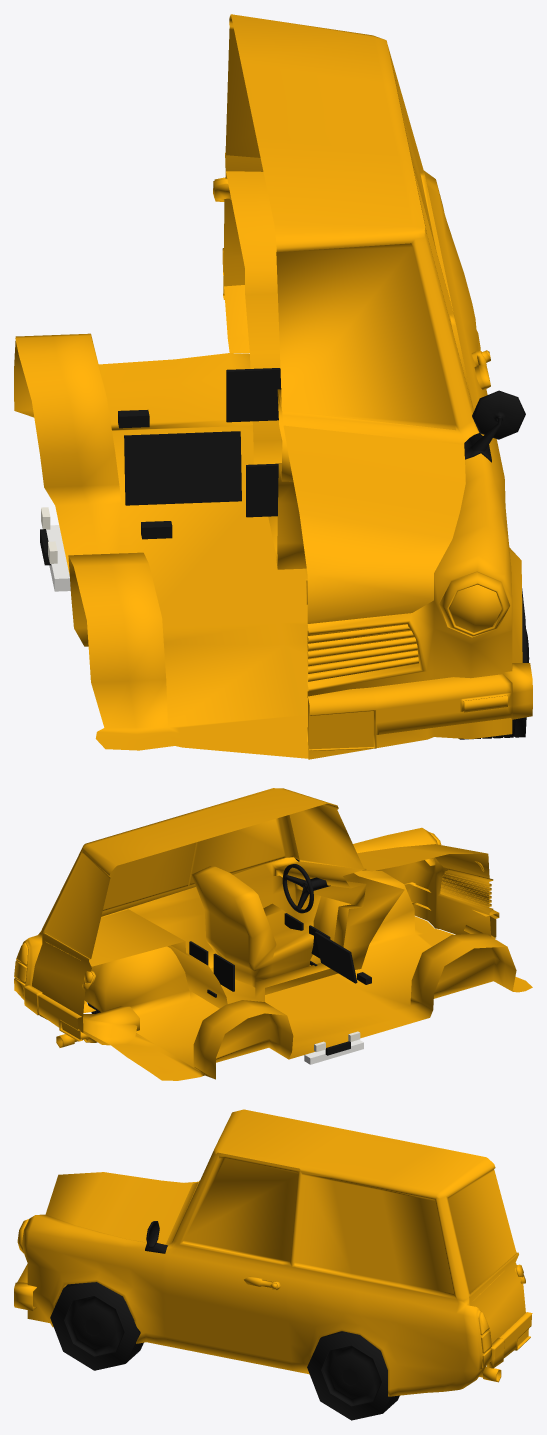
Rendered from blenderkit_car_nike_test.glb.
The picture shows the model from 3 angles, top to bottom: view 1: azimuth 30°, elevation 25°; view 2: azimuth 150°, elevation 25°; view 3: azimuth 270°, elevation 25°; orthographic projection. The views are drawn at different scales.
Parts seen in each view (by area): view 1: chasis, bottom, motor, interior, bomper front, black front windshield fill, radiadotr, door back, black far side window front, mirror, door side, plate fornt (+3 smaller); view 2: bottom, chasis, interior, seat, door back, door side, motor, bumper back, black front windshield fill, smoke, sterring wheel, black far side window front (+4 smaller); view 3: chasis, door side, door back, motor, wheels, wheels.001, bumper back, bomper front, light back, mirror.
Part boxes in pixels (x1,y1,x2,y2): chasis: (224, 14, 522, 759); bottom: (14, 333, 308, 758); motor: (283, 425, 465, 623); interior: (226, 171, 307, 579); bomper front: (307, 663, 532, 750); black front windshield fill: (124, 431, 241, 505); radiadotr: (308, 624, 418, 681); door back: (224, 20, 263, 286); black far side window front: (226, 368, 281, 422); mirror: (464, 390, 525, 462); door side: (412, 164, 503, 472); plate fornt: (309, 712, 373, 749); bottom: (83, 870, 532, 1080); chasis: (14, 788, 493, 1045); interior: (41, 857, 404, 1008); seat: (191, 866, 313, 987); door back: (32, 850, 110, 1032); door side: (188, 817, 289, 889); motor: (357, 844, 489, 878); bumper back: (23, 984, 82, 1041); black front windshield fill: (315, 931, 357, 983); smoke: (56, 1006, 139, 1047); sterring wheel: (282, 864, 330, 913); black far side window front: (213, 953, 234, 991); chasis: (17, 1109, 517, 1396); door side: (166, 1152, 300, 1360); door back: (446, 1166, 525, 1343); motor: (45, 1172, 192, 1244); wheels: (50, 1282, 143, 1370); wheels.001: (307, 1331, 399, 1420); bumper back: (486, 1312, 532, 1368); bomper front: (14, 1264, 36, 1310); light back: (478, 1312, 491, 1367); mirror: (145, 1221, 167, 1253).
Bounding box in the file's own units: 2.2 × 1.36 × 2.74.
